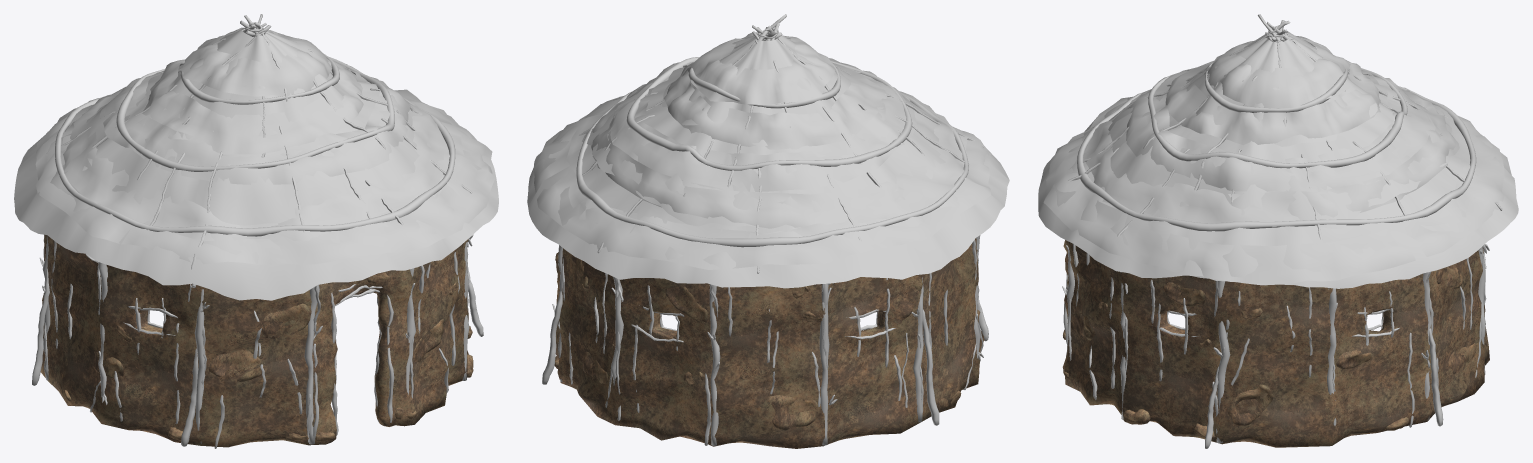
The model's file is highpoly_african_hut_001.obj.
3 renders of one model, left to right at view 1: azimuth 30°, elevation 25°; view 2: azimuth 150°, elevation 25°; view 3: azimuth 270°, elevation 25°, orthographic.
Visible parts, largest first — view 1: highpoly_african_hut_001; view 2: highpoly_african_hut_001; view 3: highpoly_african_hut_001.
Part boxes in pixels (left/top/right/bottom): highpoly_african_hut_001: left=14, top=14, right=498, bottom=448; highpoly_african_hut_001: left=527, top=14, right=1009, bottom=448; highpoly_african_hut_001: left=1038, top=14, right=1518, bottom=448.
Bounding box in the file's own units: 4.55 × 3.63 × 4.57.
